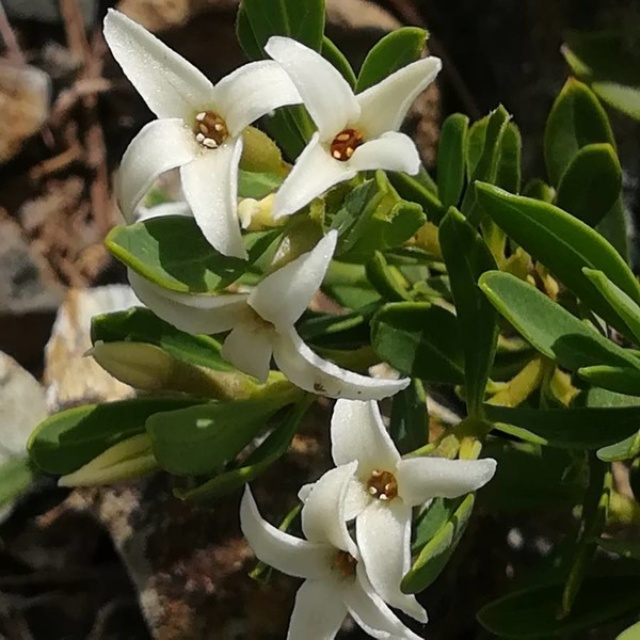obstacle: (112, 51, 605, 596)
